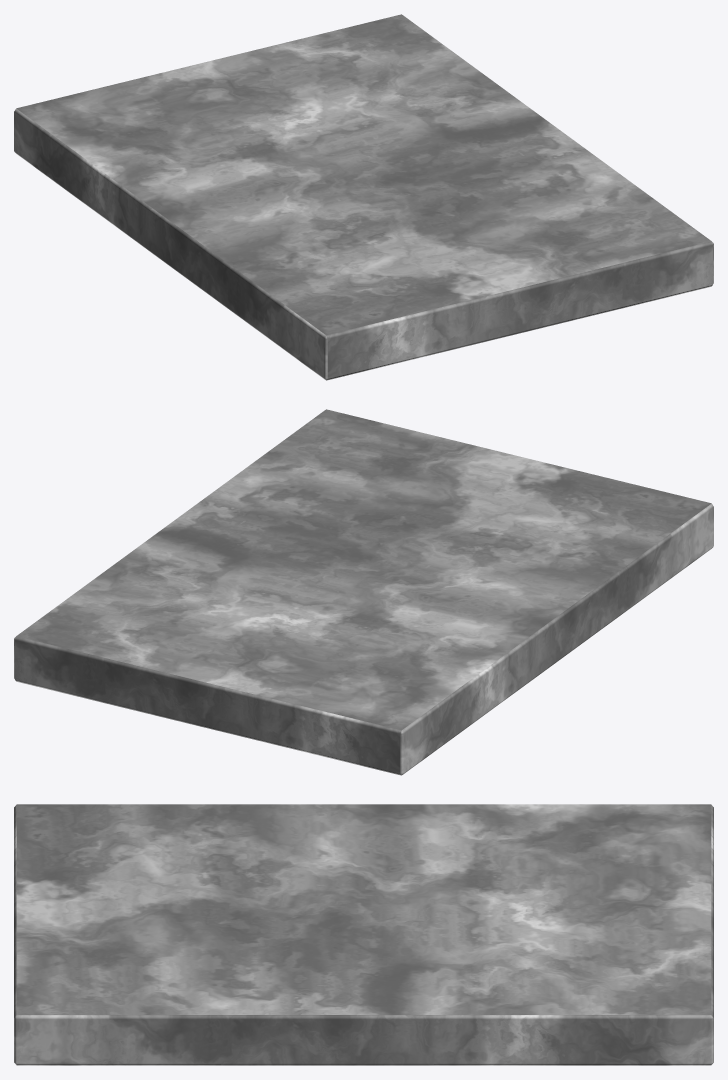
File: SM_boardwalk.fbx
3 views of the same model, one above another, from view 1: azimuth 30°, elevation 25°; view 2: azimuth 150°, elevation 25°; view 3: azimuth 270°, elevation 25° (orthographic). The views are drawn at different scales.
Parts seen in each view (by area): view 1: SM_boardwalk; view 2: SM_boardwalk; view 3: SM_boardwalk.
Boxes of the visible parts, x1,y1,x2,y2 form: SM_boardwalk: (14,14,713,380); SM_boardwalk: (14,409,713,775); SM_boardwalk: (14,804,713,1065).
Size of the model in its own units: 180 by 250 by 20.
1 material, 1 textured.
